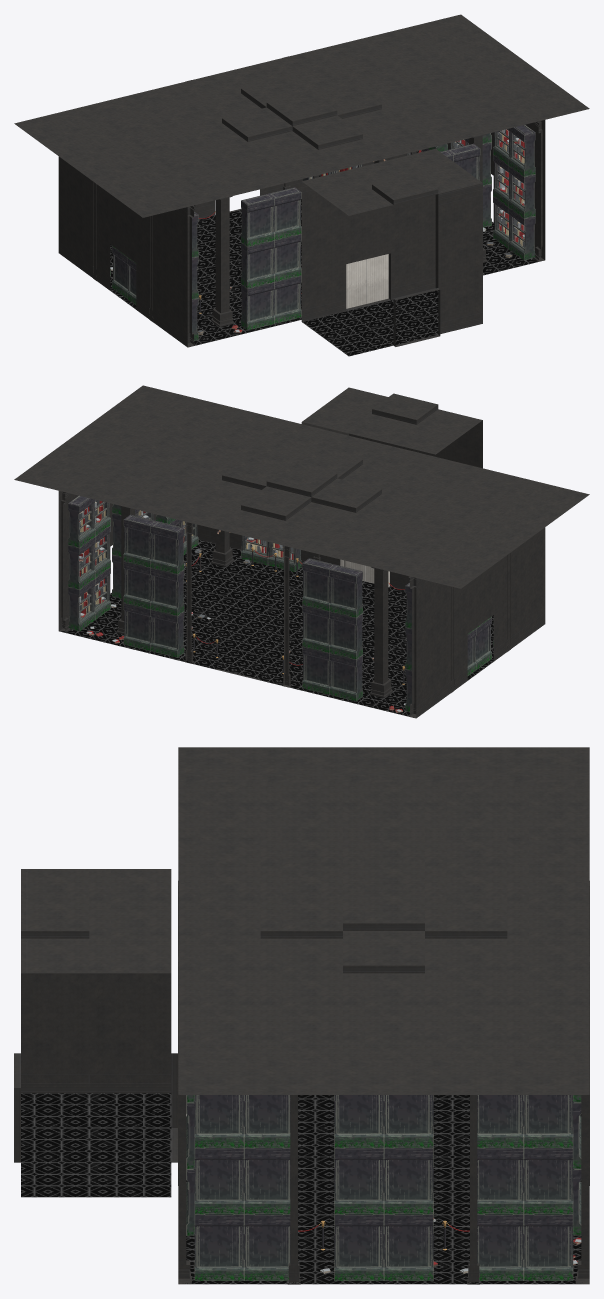
Rendered from stage1.fbx.
3 renders of one model, top to bottom at view 1: azimuth 30°, elevation 25°; view 2: azimuth 150°, elevation 25°; view 3: azimuth 270°, elevation 25°, orthographic. The views are drawn at different scales.
Parts seen in each view (by area): view 1: roof, wall_jount, Wall_W, Bookshelf6, wall_outside_L, wall_outside_R, Floor, Bookshelf4, Floor_joint, WallPillar_Big, Wall_E, Bookshelf8 (+8 smaller); view 2: roof, Floor, Wall_W, Bookshelf1, Bookshelf, wall_outside_L, wall_outside_R, Bookshelf2, WallPillar_Big1, wall_jount, Wall_E, Bookshelf5 (+11 smaller); view 3: roof, wall_jount, Bookshelf3, Bookshelf2, Bookshelf4, Floor_joint, Floor, wall_outside_R, wall_outside_L, WallPillar_mini11, WallPillar_mini9, WallPillar_mini7 (+4 smaller).
Boxes of the visible parts, x1,y1,x2,y2 form: roof: [59, 26, 544, 215]; wall_jount: [301, 182, 482, 346]; Wall_W: [58, 156, 187, 347]; Bookshelf6: [231, 187, 301, 332]; wall_outside_L: [416, 14, 589, 119]; wall_outside_R: [14, 112, 187, 217]; Floor: [110, 199, 539, 345]; Bookshelf4: [487, 125, 535, 260]; Floor_joint: [302, 290, 438, 356]; WallPillar_Big: [211, 196, 234, 327]; Wall_E: [447, 120, 545, 259]; Bookshelf8: [112, 245, 136, 305]; roof: [60, 387, 544, 577]; Floor: [59, 539, 493, 717]; Wall_W: [416, 527, 545, 717]; Bookshelf1: [112, 514, 184, 657]; Bookshelf: [302, 558, 362, 701]; wall_outside_L: [14, 385, 187, 490]; wall_outside_R: [416, 483, 589, 588]; Bookshelf2: [68, 495, 116, 636]; WallPillar_Big1: [369, 567, 392, 698]; wall_jount: [301, 420, 482, 468]; Wall_E: [58, 491, 156, 630]; Bookshelf5: [241, 535, 301, 571]; roof: [21, 782, 589, 1060]; wall_jount: [14, 973, 171, 1162]; Bookshelf3: [320, 1095, 437, 1280]; Bookshelf2: [459, 1095, 577, 1280]; Bookshelf4: [194, 1095, 290, 1280]; Floor_joint: [21, 1093, 171, 1197]; Floor: [185, 1095, 581, 1284]; wall_outside_R: [178, 747, 589, 782]; wall_outside_L: [178, 1060, 589, 1094]; WallPillar_mini11: [575, 1054, 589, 1284]; WallPillar_mini9: [178, 1054, 191, 1284]; WallPillar_mini7: [287, 1057, 300, 1284].
Bounding box in the file's own units: 20.01 × 6.43 × 14.01.
